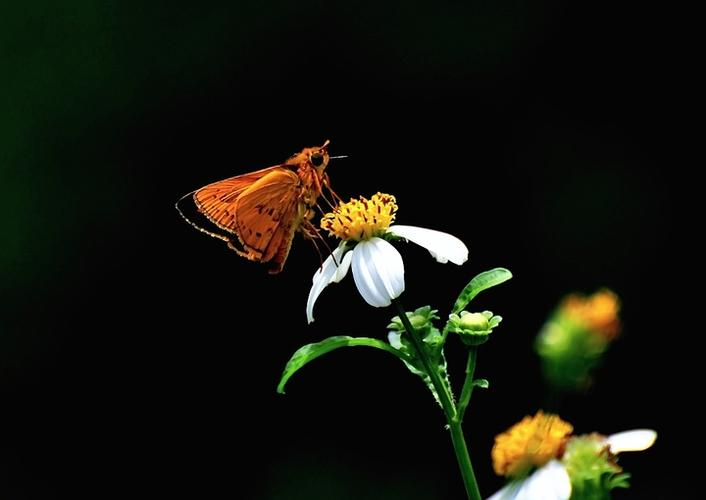Hesperiidae: (174, 139, 349, 272)
